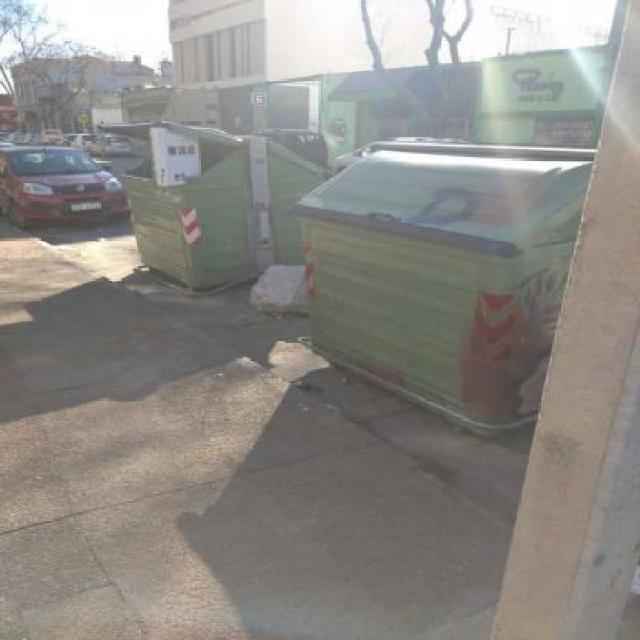garbage: (111, 115, 216, 196), (223, 248, 312, 322)
